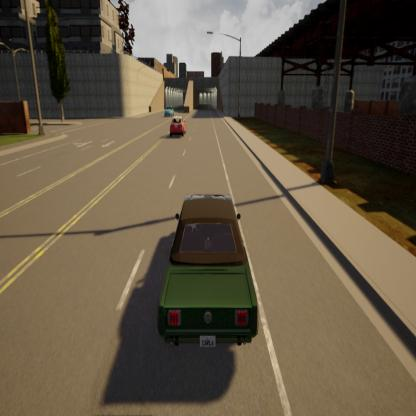Cars: (160, 194, 260, 354), (168, 118, 186, 135), (164, 107, 176, 118)
